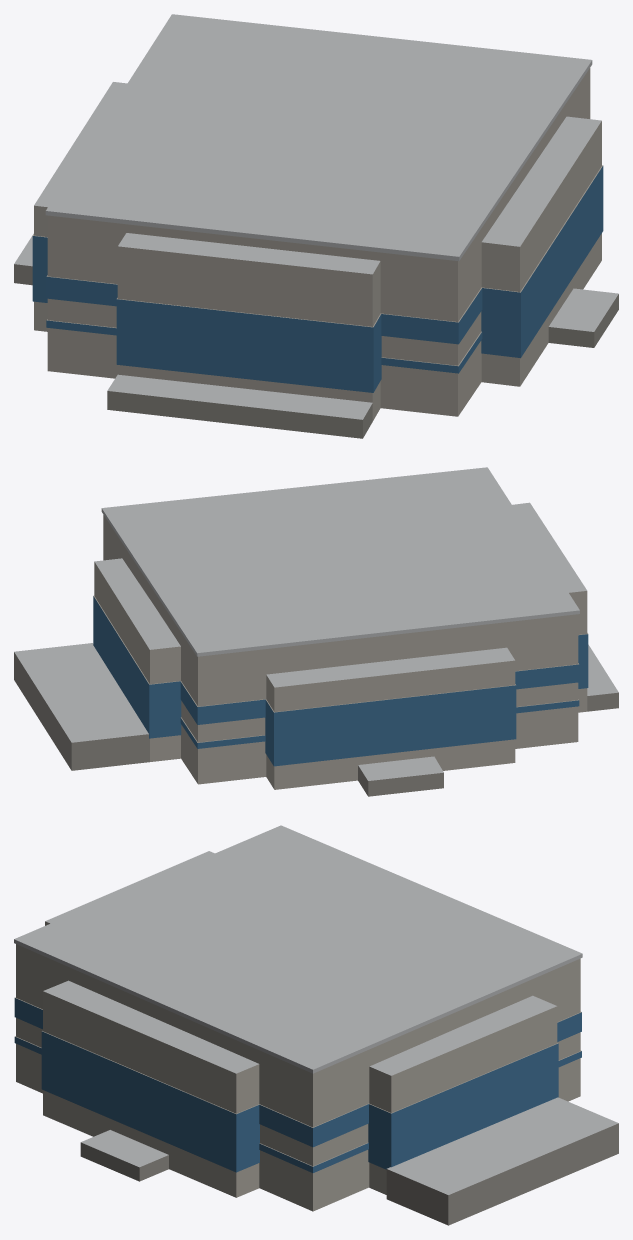
File: delta_center.glb
The picture shows the model from 3 angles, top to bottom: view 1: azimuth 30°, elevation 25°; view 2: azimuth 150°, elevation 25°; view 3: azimuth 270°, elevation 25°; orthographic projection. The views are drawn at different scales.
Parts seen in each view (by area): view 1: Delta_Center; view 2: Delta_Center; view 3: Delta_Center.
Part boxes in pixels (x1,y1,x2,y2): Delta_Center: (14, 14, 618, 438); Delta_Center: (14, 467, 618, 796); Delta_Center: (14, 825, 618, 1225).
Size of the model in its own units: 171 by 44.1 by 170.
